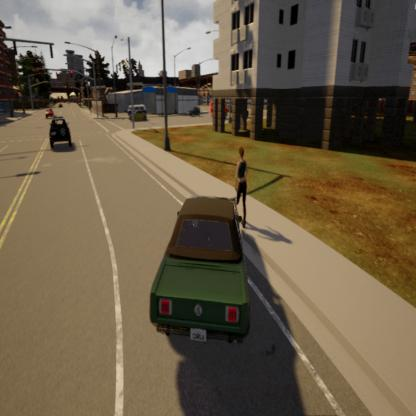Cars: (149, 197, 250, 344), (49, 116, 72, 150), (209, 102, 228, 117), (129, 103, 146, 119), (131, 108, 147, 124), (189, 104, 200, 116), (45, 108, 55, 120)
Pedestrian: (236, 147, 247, 228)
